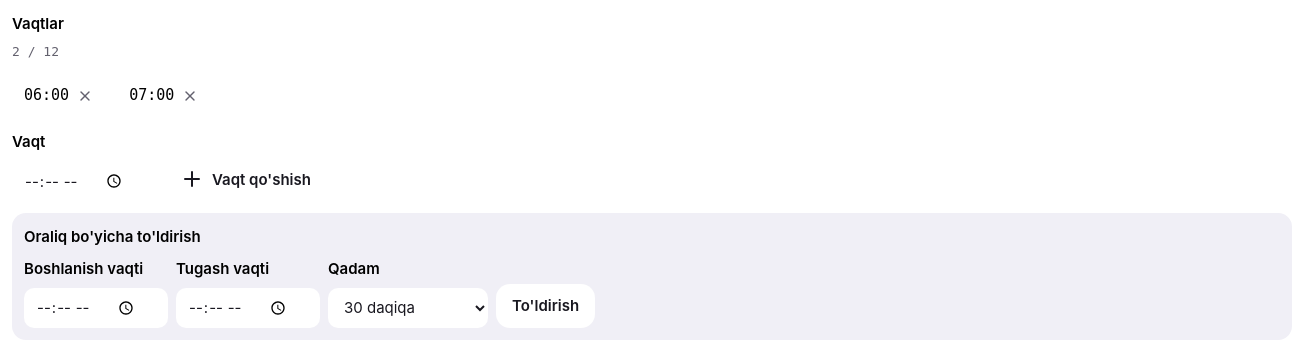
Test case: dublikat va tartib › dublikat RAD ETILADI va sababi aytiladi
This screenshot has width=1292, height=358.
Type "07:00" into the time field labelled "Vaqt" at point(84, 181), box [12,161,156,201]
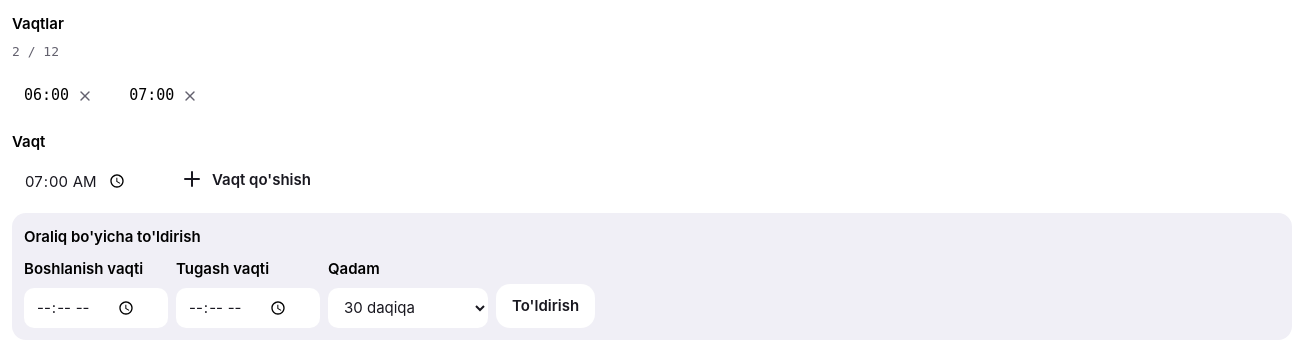
Click the button "Vaqt qo'shish" at point(245, 179), box [164,157,327,201]
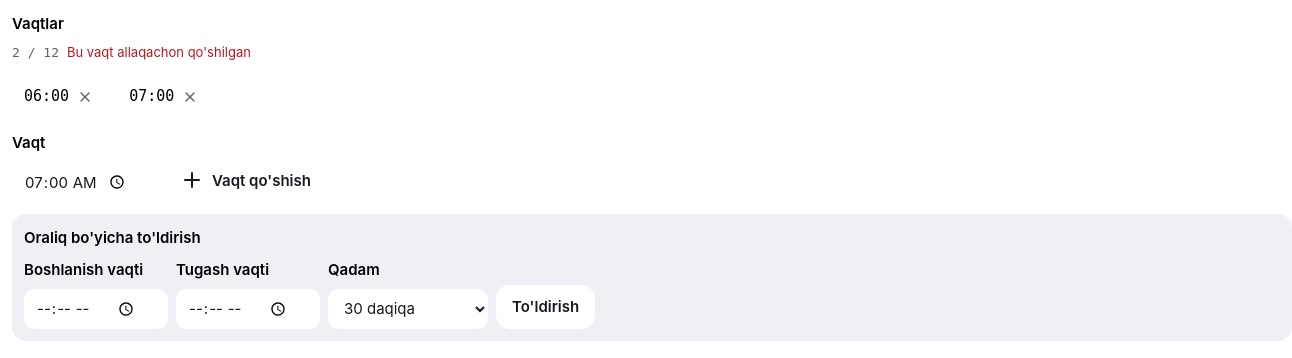
Expected: the text "07:00" is shown once, [129,86,174,109]
Expected: the message shows "Bu vaqt allaqachon qo'shilgan", [67,44,251,60]
